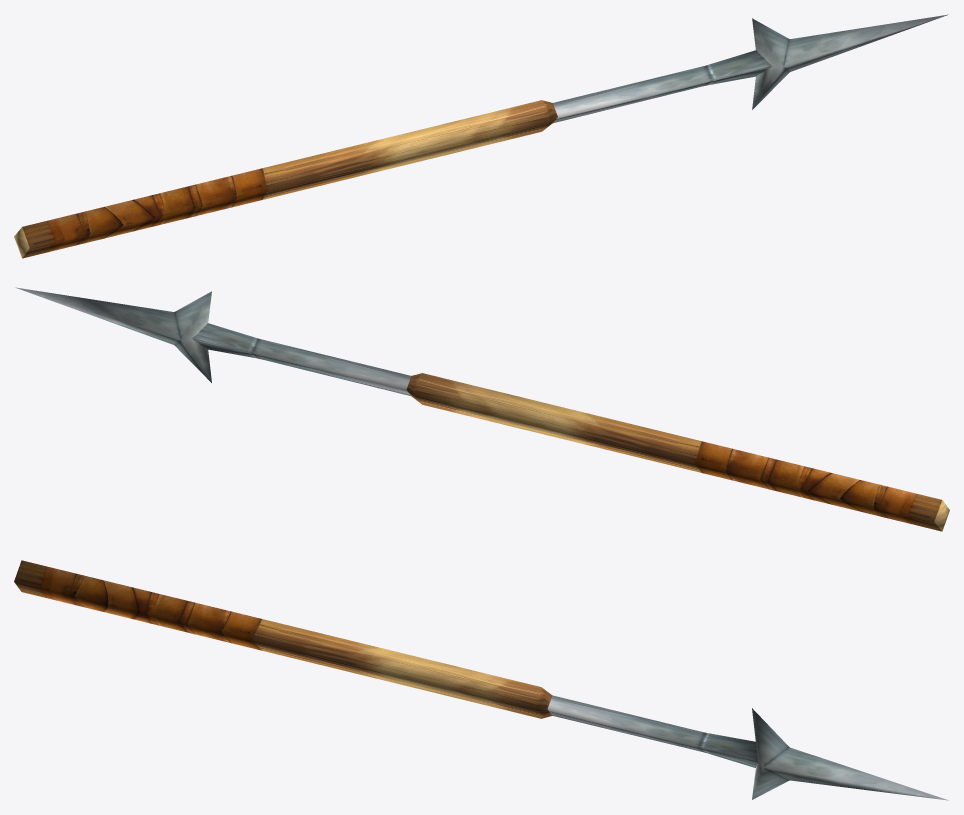
Rendered from harpoon01.obj.
3 views of the same model, one above another, from view 1: azimuth 30°, elevation 25°; view 2: azimuth 150°, elevation 25°; view 3: azimuth 330°, elevation 25° (orthographic).
Visible parts, largest first — view 1: Geoset0, Geoset1; view 2: Geoset0, Geoset1; view 3: Geoset0, Geoset1.
Part boxes in pixels (box(x1,y1,x2,y2)): Geoset0: box(14, 100, 557, 258); Geoset1: box(553, 14, 948, 123); Geoset0: box(406, 373, 949, 531); Geoset1: box(15, 287, 411, 395); Geoset0: box(14, 560, 552, 718); Geoset1: box(547, 695, 948, 800).
Bounding box in the file's own units: 2.28 × 0.2161 × 0.0854.
Materials: 1 (1 with a texture image).
